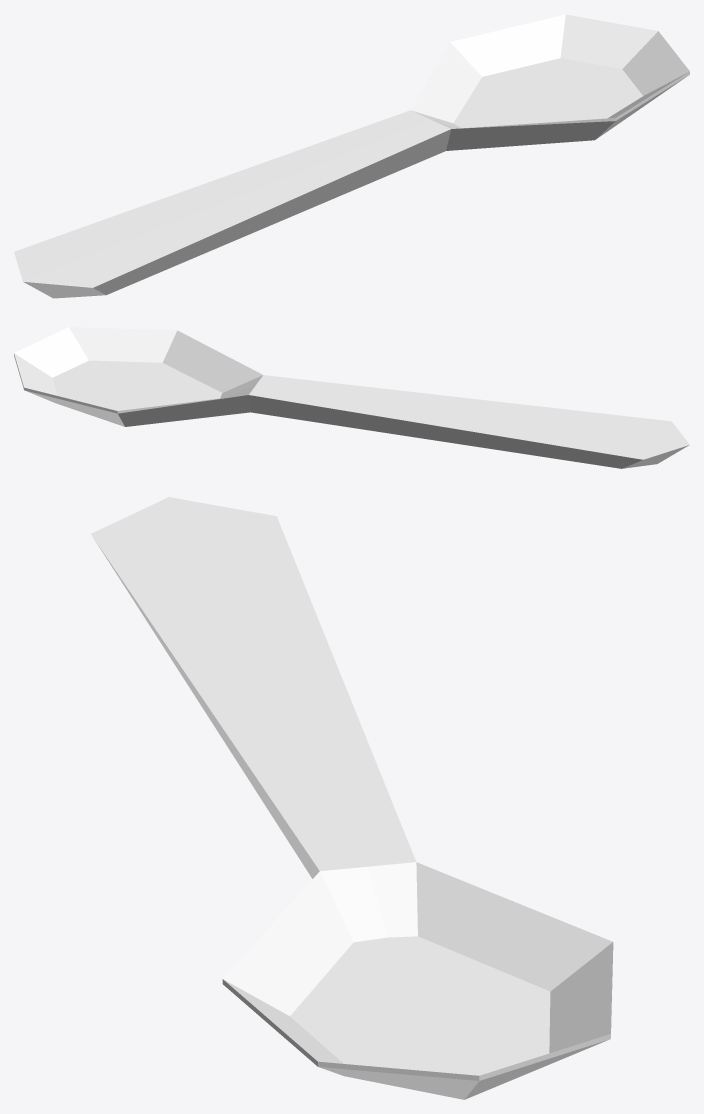
File: Kitchen_Spoon2.fbx
3 renders of one model, top to bottom at view 1: azimuth 30°, elevation 25°; view 2: azimuth 150°, elevation 25°; view 3: azimuth 270°, elevation 25°, orthographic. The views are drawn at different scales.
Visible parts, largest first — view 1: Kitchen_Spoon2; view 2: Kitchen_Spoon2; view 3: Kitchen_Spoon2.
Part boxes in pixels (x1,y1,x2,y2): Kitchen_Spoon2: (14, 14, 689, 298); Kitchen_Spoon2: (14, 327, 689, 468); Kitchen_Spoon2: (91, 497, 613, 1099).
Bounding box in the file's own units: 19.32 × 1.05 × 7.31.
